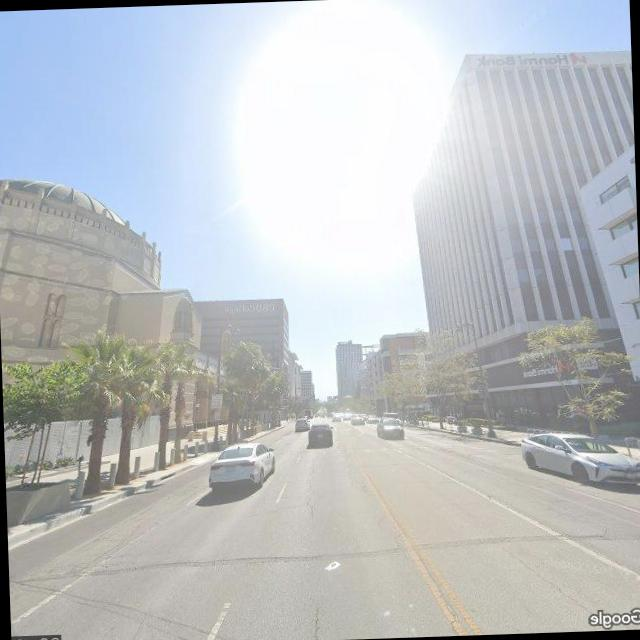pothole: (308, 600, 328, 639)
